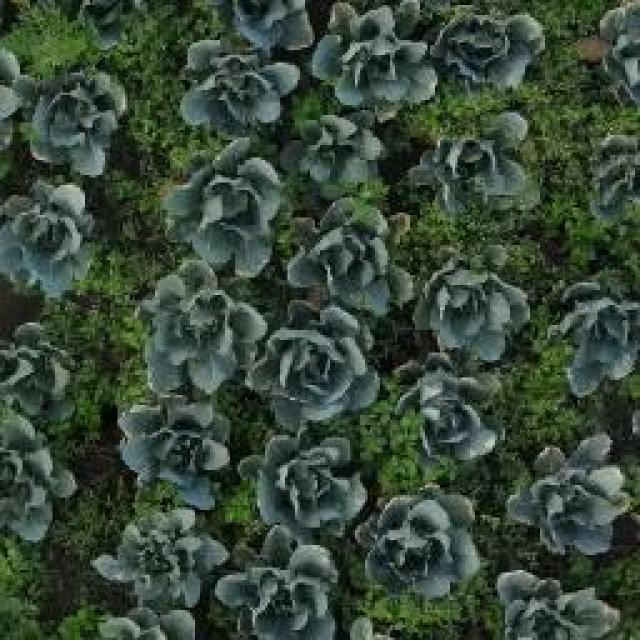cabbage: (160, 140, 287, 278), (132, 264, 262, 392), (252, 308, 382, 428), (215, 522, 335, 640), (310, 0, 434, 114), (413, 106, 535, 220), (285, 206, 414, 311), (512, 441, 630, 555), (364, 484, 478, 596), (117, 393, 229, 506), (1, 180, 101, 306), (22, 60, 131, 172), (388, 361, 508, 461), (179, 36, 301, 134), (99, 506, 221, 604), (418, 256, 530, 359), (250, 428, 363, 530), (0, 420, 78, 546), (434, 0, 540, 90), (550, 290, 638, 396), (493, 567, 620, 640), (0, 325, 80, 426), (300, 118, 380, 198)
